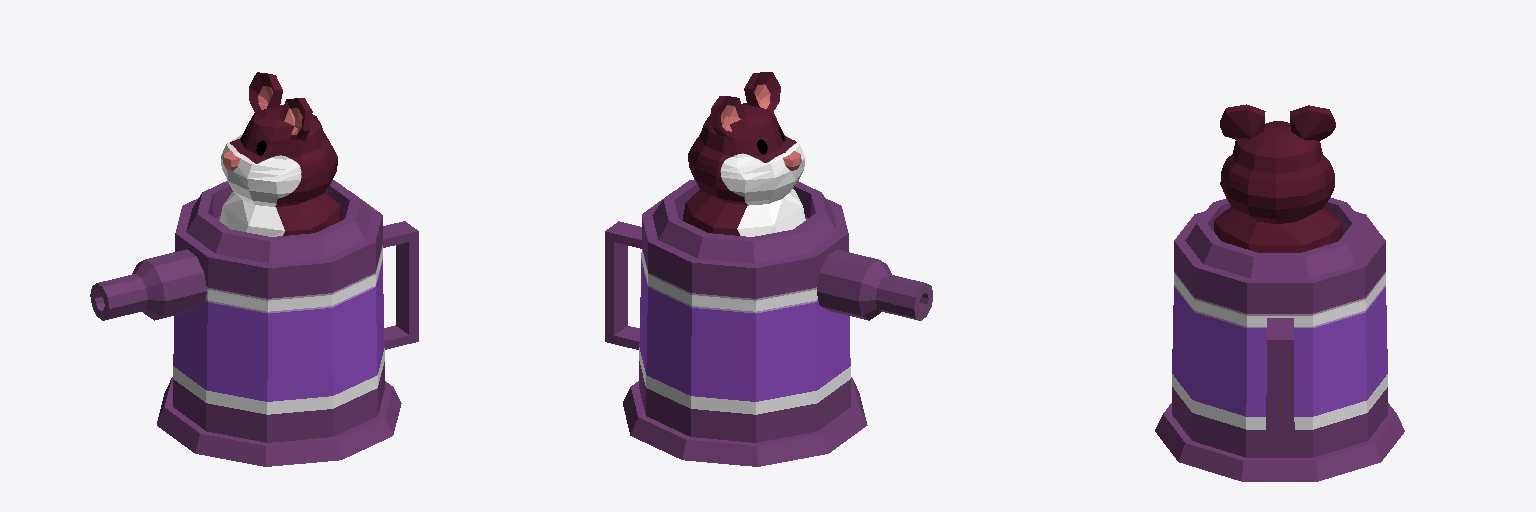
The picture shows the model from 3 angles: view 1: azimuth 30°, elevation 25°; view 2: azimuth 150°, elevation 25°; view 3: azimuth 270°, elevation 25°; orthographic projection.
Visible parts, largest first — view 1: polySurface6, polySurface5, polySurface4; view 2: polySurface6, polySurface5, polySurface4; view 3: polySurface6, polySurface5.
Boxes of the visible parts, <box> form: polySurface6: <box>157,180,418,466</box>; polySurface5: <box>219,72,341,236</box>; polySurface4: <box>90,249,206,320</box>; polySurface6: <box>605,179,867,466</box>; polySurface5: <box>682,72,805,236</box>; polySurface4: <box>817,249,932,320</box>; polySurface6: <box>1155,197,1404,481</box>; polySurface5: <box>1214,104,1342,252</box>.
Bounding box in the file's own units: 3.22 × 3.24 × 2.24.
3 materials, 3 textured.